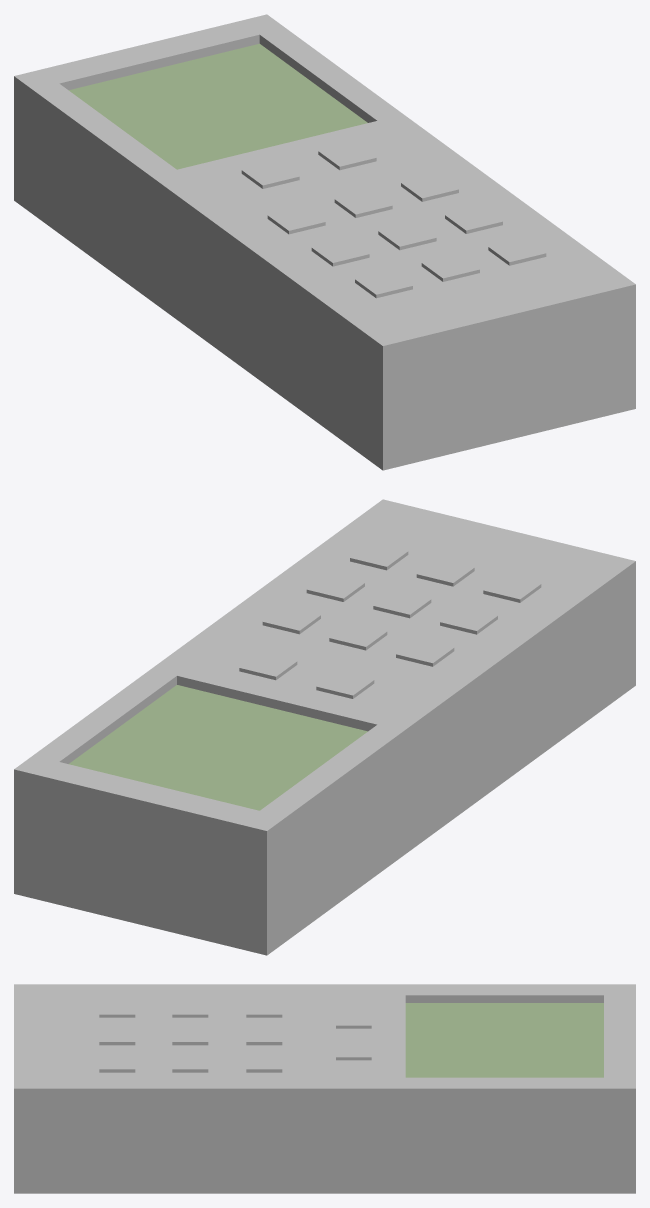
File: Celular.fbx
3 renders of one model, top to bottom at view 1: azimuth 30°, elevation 25°; view 2: azimuth 150°, elevation 25°; view 3: azimuth 270°, elevation 25°, orthographic. The views are drawn at different scales.
Parts seen in each view (by area): view 1: Telefone; view 2: Telefone; view 3: Telefone.
Boxes of the visible parts, box(x1,y1,x2,y2) form: Telefone: box(14, 14, 635, 470); Telefone: box(14, 499, 635, 955); Telefone: box(14, 984, 635, 1193).
Size of the model in its own units: 7.71 by 3.73 by 19.46.
